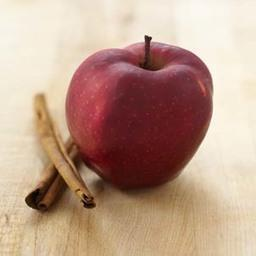apple: (61, 36, 213, 191)
